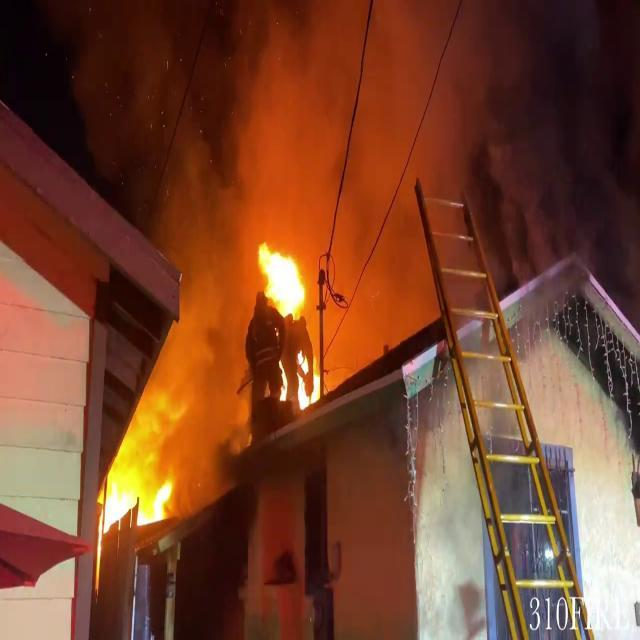Fire: (256, 233, 324, 413), (96, 440, 178, 538)
Smoke: (93, 0, 547, 332)
